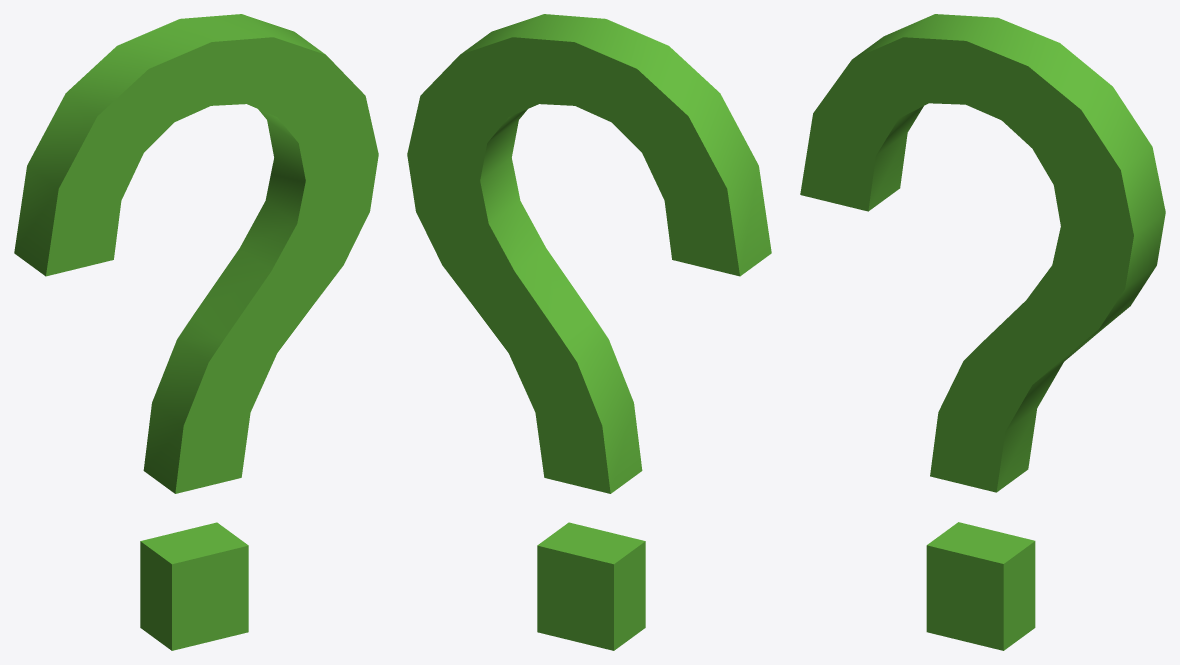
Rendered from letras.obj.
3 views of the same model, side by side, from view 1: azimuth 30°, elevation 25°; view 2: azimuth 150°, elevation 25°; view 3: azimuth 330°, elevation 25° (orthographic).
Visible parts, largest first — view 1: _; view 2: _; view 3: _.
Boxes of the visible parts, x1,y1,x2,y2 form: _: (14,14,378,650); _: (407,14,771,650); _: (800,14,1165,650).
Size of the model in its own units: 0.607 by 1.04 by 0.1.
